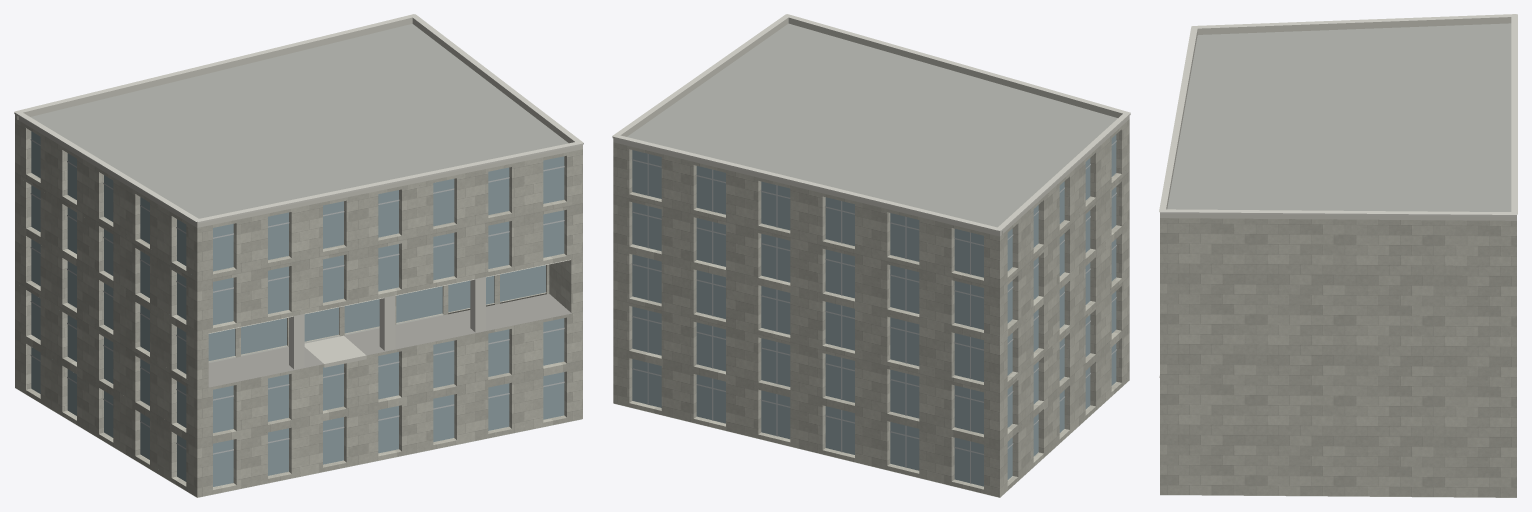
3 views of the same model, side by side, from view 1: azimuth 30°, elevation 25°; view 2: azimuth 150°, elevation 25°; view 3: azimuth 270°, elevation 25° (orthographic). The views are drawn at different scales.
Parts seen in each view (by area): view 1: allen__wall, allen__roof, allen__glass, allen__base, allen__parapet, allen__trim, allen__column, allen__frame, allen__entranceThreshold; view 2: allen__wall, allen__roof, allen__glass, allen__parapet, allen__trim, allen__frame; view 3: allen__wall, allen__roof, allen__trim, allen__parapet.
Boxes of the visible parts, x1,y1,x2,y2 form: allen__wall: (15, 118, 582, 497); allen__roof: (15, 24, 582, 497); allen__glass: (31, 131, 564, 486); allen__base: (208, 294, 571, 387); allen__parapet: (15, 17, 582, 227); allen__trim: (14, 14, 583, 223); allen__column: (289, 277, 485, 369); allen__frame: (30, 139, 564, 454); allen__entranceThreshold: (304, 335, 366, 367); allen__wall: (613, 119, 1129, 497); allen__roof: (613, 23, 1129, 497); allen__glass: (632, 134, 1116, 486); allen__parapet: (613, 17, 1129, 236); allen__trim: (612, 14, 1130, 232); allen__frame: (632, 140, 1116, 483); allen__wall: (1160, 218, 1516, 497); allen__roof: (1160, 23, 1516, 497); allen__trim: (1159, 14, 1517, 216); allen__parapet: (1160, 17, 1516, 220).
Size of the model in its own units: 25.7 by 16.9 by 19.4.
10 materials, 1 textured.
